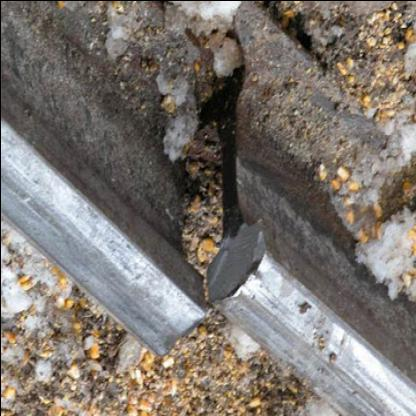Defective 2: (52, 35, 352, 387)
